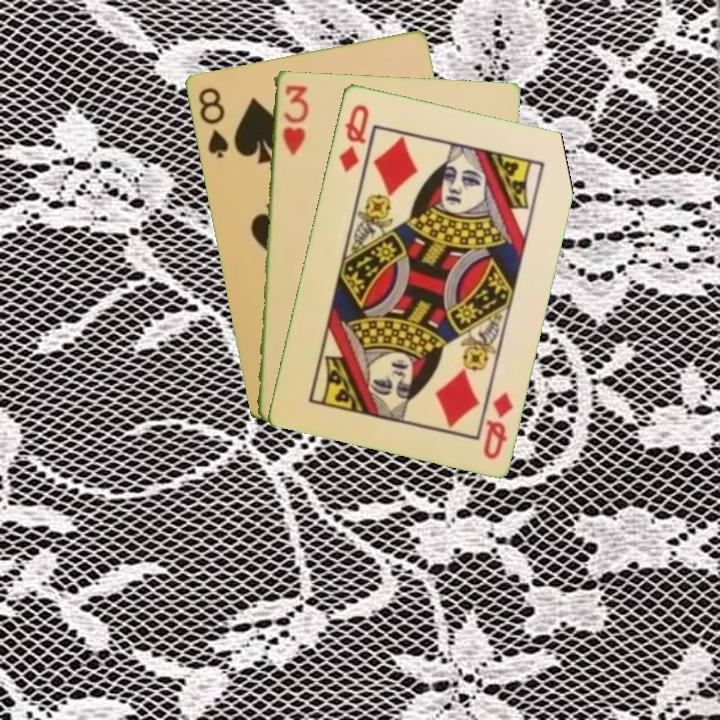3h: (278, 81, 310, 158)
8s: (194, 83, 231, 161)
Qd: (335, 100, 372, 175), (479, 388, 516, 462)
